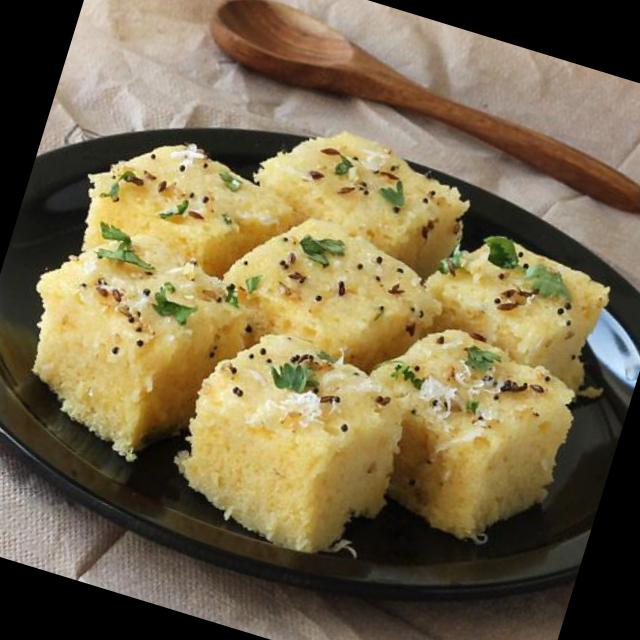dhokla: (19, 67, 640, 592)
